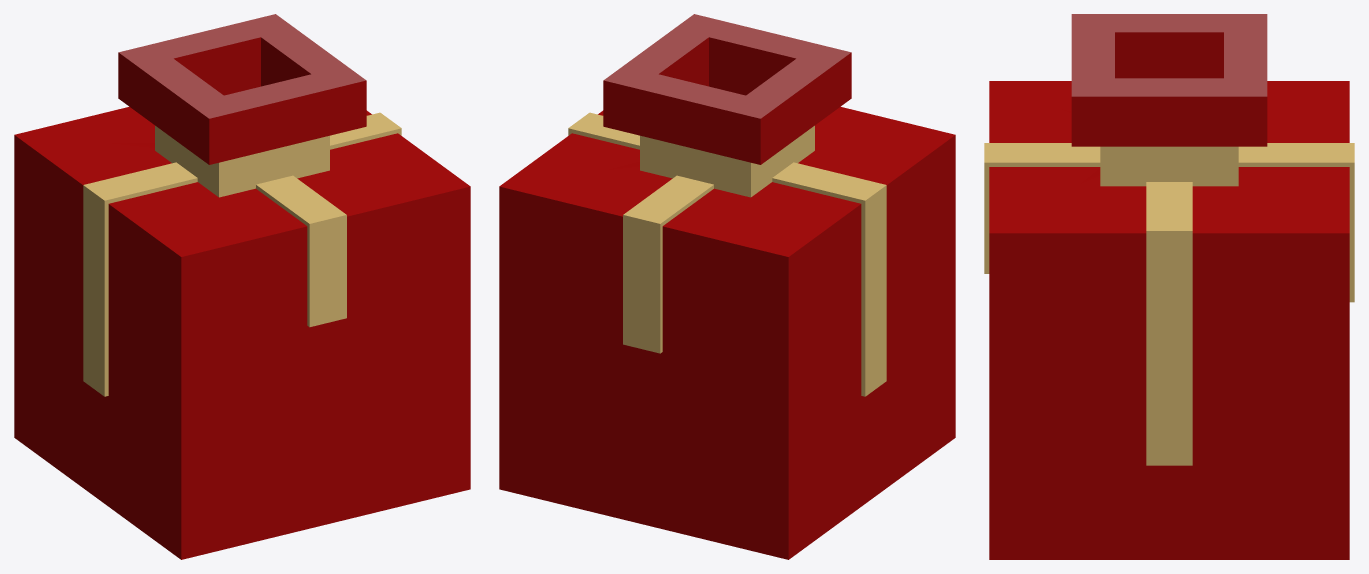
The model's file is 012 009 Santa_gift_bag.fbx.
The picture shows the model from 3 angles, left to right: view 1: azimuth 30°, elevation 25°; view 2: azimuth 150°, elevation 25°; view 3: azimuth 270°, elevation 25°; orthographic projection. The views are drawn at different scales.
Visible parts, largest first — view 1: Lowpoly_Christmas_Pack_012:Lowpoly_Christmas_Pack_09:pCube1; view 2: Lowpoly_Christmas_Pack_012:Lowpoly_Christmas_Pack_09:pCube1; view 3: Lowpoly_Christmas_Pack_012:Lowpoly_Christmas_Pack_09:pCube1.
Part boxes in pixels (left/top/right/bottom): Lowpoly_Christmas_Pack_012:Lowpoly_Christmas_Pack_09:pCube1: left=14, top=14, right=470, bottom=559; Lowpoly_Christmas_Pack_012:Lowpoly_Christmas_Pack_09:pCube1: left=499, top=14, right=955, bottom=559; Lowpoly_Christmas_Pack_012:Lowpoly_Christmas_Pack_09:pCube1: left=984, top=14, right=1354, bottom=559.
Size of the model in its own units: 1.54 by 1.97 by 1.54.
